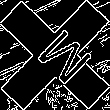M_SW: (21, 21, 89, 89)
